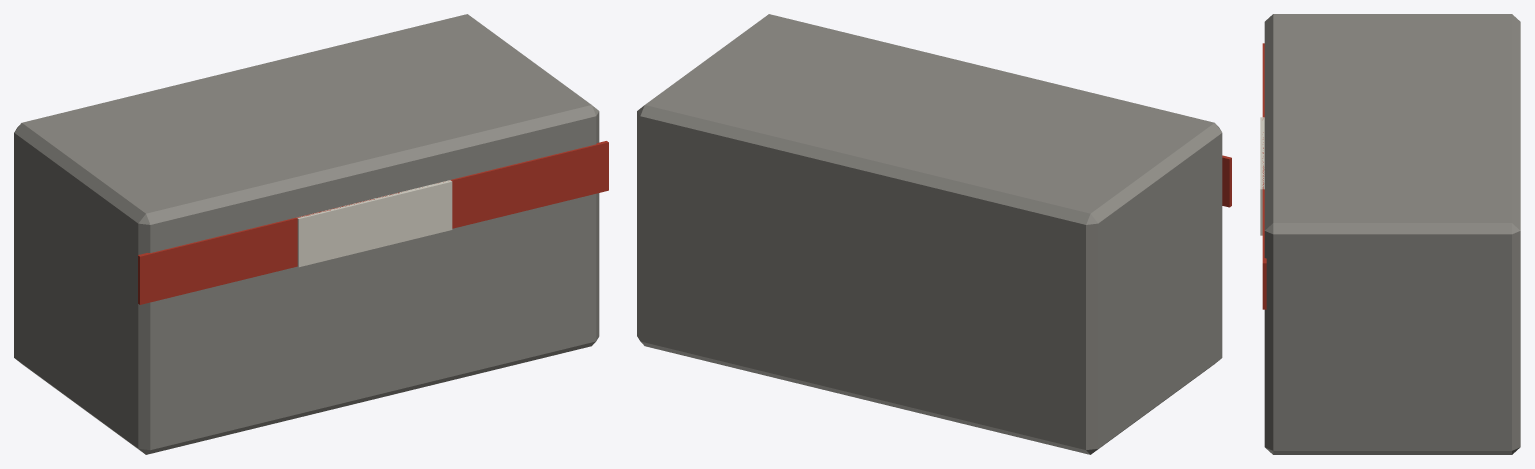
The model's file is concrete_block.glb.
3 renders of one model, left to right at view 1: azimuth 30°, elevation 25°; view 2: azimuth 150°, elevation 25°; view 3: azimuth 270°, elevation 25°, orthographic. The views are drawn at different scales.
Visible parts, largest first — view 1: ConcreteBlock; view 2: ConcreteBlock; view 3: ConcreteBlock.
Boxes of the visible parts, x1,y1,x2,y2 form: ConcreteBlock: (14,14,608,454); ConcreteBlock: (637,14,1231,454); ConcreteBlock: (1260,14,1520,454).
Bounding box in the file's own units: 1.22 × 0.6 × 0.61.
